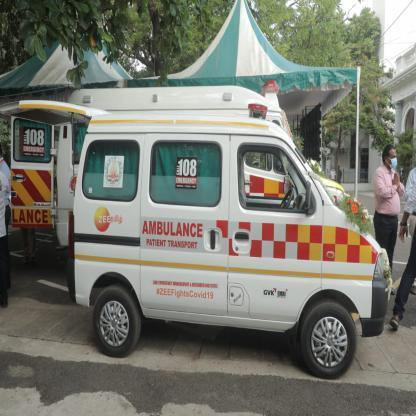Ambulance: (142, 219, 205, 239), (175, 156, 197, 190), (20, 127, 46, 155)
